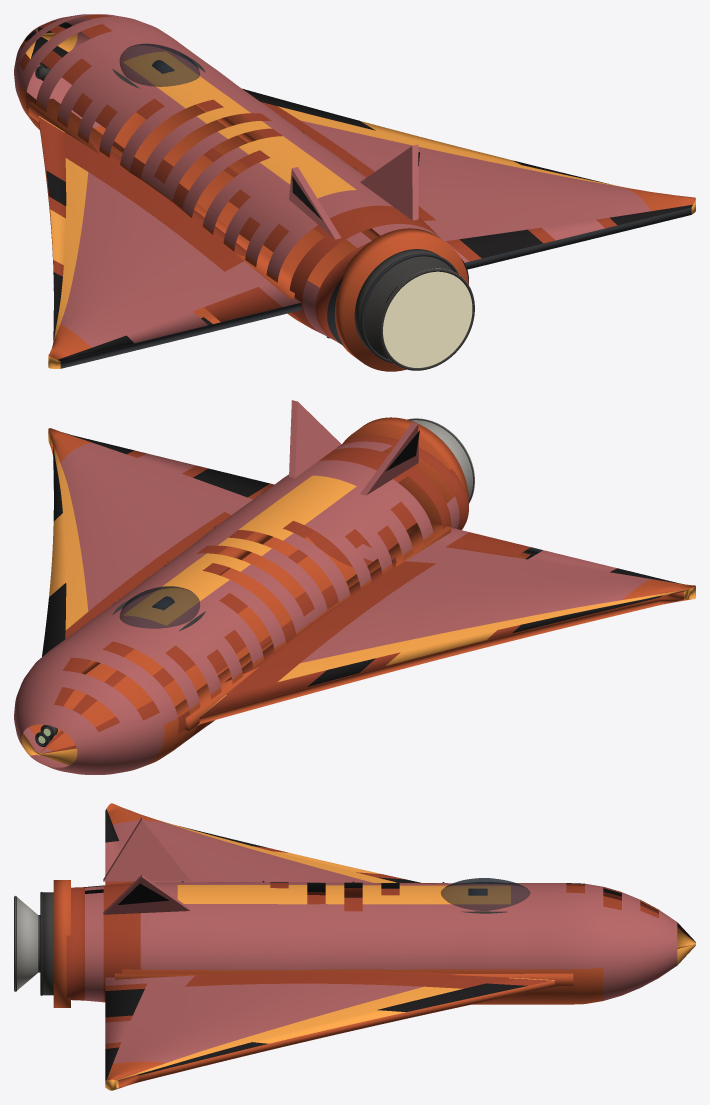
File: Ship_TigerWing_5.glb
3 views of the same model, one above another, from view 1: azimuth 30°, elevation 25°; view 2: azimuth 150°, elevation 25°; view 3: azimuth 270°, elevation 25° (orthographic). The views are drawn at different scales.
Visible parts, largest first — view 1: Fuselage_OrganicEllipsoidTaperedBody_BakedPaint, Wing_Left_LongDeltaAerofoil_BakedPaint, Wing_Right_LongDeltaAerofoil_BakedPaint, EngineEmitter, AftCollar_IntegratedSingleEngineBand, EngineBlock_AftDarkSingleEngineHousing, CanopyGlass_LowInsetDome, TailFin_Right_CantedStabilizer, WingRoot_Left_EmbeddedShoulder, TailFin_Left_CantedStabilizer, EngineLip_Center_DarkWideRim, EngineBlock_OuterBoltedRim (+1 smaller); view 2: Fuselage_OrganicEllipsoidTaperedBody_BakedPaint, Wing_Left_LongDeltaAerofoil_BakedPaint, Wing_Right_LongDeltaAerofoil_BakedPaint, AftCollar_IntegratedSingleEngineBand, CanopyGlass_LowInsetDome, WingRoot_Left_EmbeddedShoulder, TailFin_Right_CantedStabilizer, TailFin_Left_CantedStabilizer, EngineBell_Center_BroadBurnishedNozzle, WingRoot_Right_EmbeddedShoulder; view 3: Fuselage_OrganicEllipsoidTaperedBody_BakedPaint, Wing_Right_LongDeltaAerofoil_BakedPaint, Wing_Left_LongDeltaAerofoil_BakedPaint, TailFin_Left_CantedStabilizer, CanopyGlass_LowInsetDome, AftCollar_IntegratedSingleEngineBand, EngineBell_Center_BroadBurnishedNozzle, TailFin_Right_CantedStabilizer, EngineBlock_AftDarkSingleEngineHousing, WingRoot_Right_EmbeddedShoulder, TailFin_Right_BakedTrimPatch.
Boxes of the visible parts, x1,y1,x2,y2 form: Fuselage_OrganicEllipsoidTaperedBody_BakedPaint: [14, 14, 468, 345]; Wing_Left_LongDeltaAerofoil_BakedPaint: [39, 116, 302, 368]; Wing_Right_LongDeltaAerofoil_BakedPaint: [242, 88, 695, 269]; EngineEmitter: [383, 271, 472, 367]; AftCollar_IntegratedSingleEngineBand: [334, 228, 468, 371]; EngineBlock_AftDarkSingleEngineHousing: [354, 249, 453, 358]; CanopyGlass_LowInsetDome: [119, 43, 199, 86]; TailFin_Right_CantedStabilizer: [360, 144, 418, 220]; WingRoot_Left_EmbeddedShoulder: [28, 98, 294, 299]; TailFin_Left_CantedStabilizer: [289, 167, 341, 239]; EngineLip_Center_DarkWideRim: [379, 268, 474, 370]; EngineBlock_OuterBoltedRim: [360, 253, 458, 363]; Fuselage_OrganicEllipsoidTaperedBody_BakedPaint: [14, 436, 468, 774]; Wing_Left_LongDeltaAerofoil_BakedPaint: [198, 527, 695, 724]; Wing_Right_LongDeltaAerofoil_BakedPaint: [42, 428, 274, 656]; AftCollar_IntegratedSingleEngineBand: [342, 417, 468, 546]; CanopyGlass_LowInsetDome: [119, 586, 200, 628]; WingRoot_Left_EmbeddedShoulder: [175, 524, 450, 730]; TailFin_Right_CantedStabilizer: [289, 400, 341, 478]; TailFin_Left_CantedStabilizer: [360, 422, 418, 495]; EngineBell_Center_BroadBurnishedNozzle: [407, 418, 474, 503]; WingRoot_Right_EmbeddedShoulder: [81, 531, 272, 674]; Fuselage_OrganicEllipsoidTaperedBody_BakedPaint: [66, 882, 695, 1004]; Wing_Right_LongDeltaAerofoil_BakedPaint: [105, 971, 557, 1090]; Wing_Left_LongDeltaAerofoil_BakedPaint: [105, 803, 420, 885]; TailFin_Left_CantedStabilizer: [103, 817, 190, 881]; CanopyGlass_LowInsetDome: [441, 878, 530, 910]; AftCollar_IntegratedSingleEngineBand: [53, 880, 70, 1007]; EngineBell_Center_BroadBurnishedNozzle: [15, 896, 38, 991]; TailFin_Right_CantedStabilizer: [103, 875, 190, 914]; EngineBlock_AftDarkSingleEngineHousing: [42, 892, 53, 995]; WingRoot_Right_EmbeddedShoulder: [115, 973, 573, 985]; TailFin_Right_BakedTrimPatch: [118, 883, 169, 904].
Bounding box in the file's own units: 6.69 × 1.78 × 6.97.
